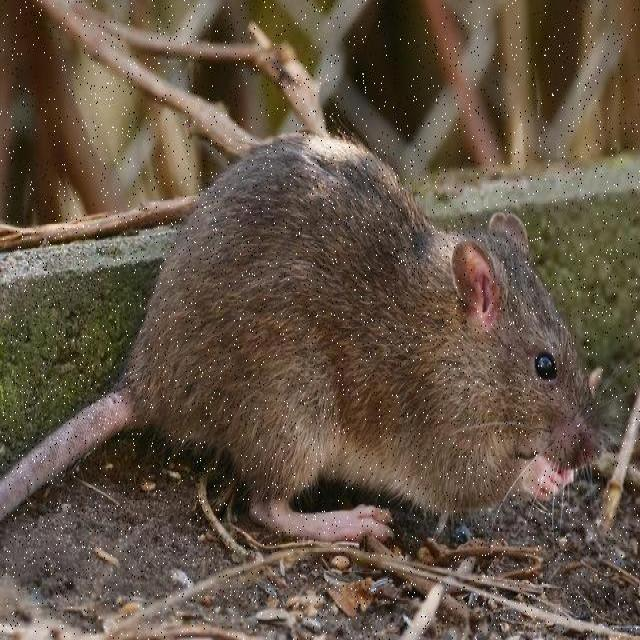rat: (3, 131, 603, 539)
